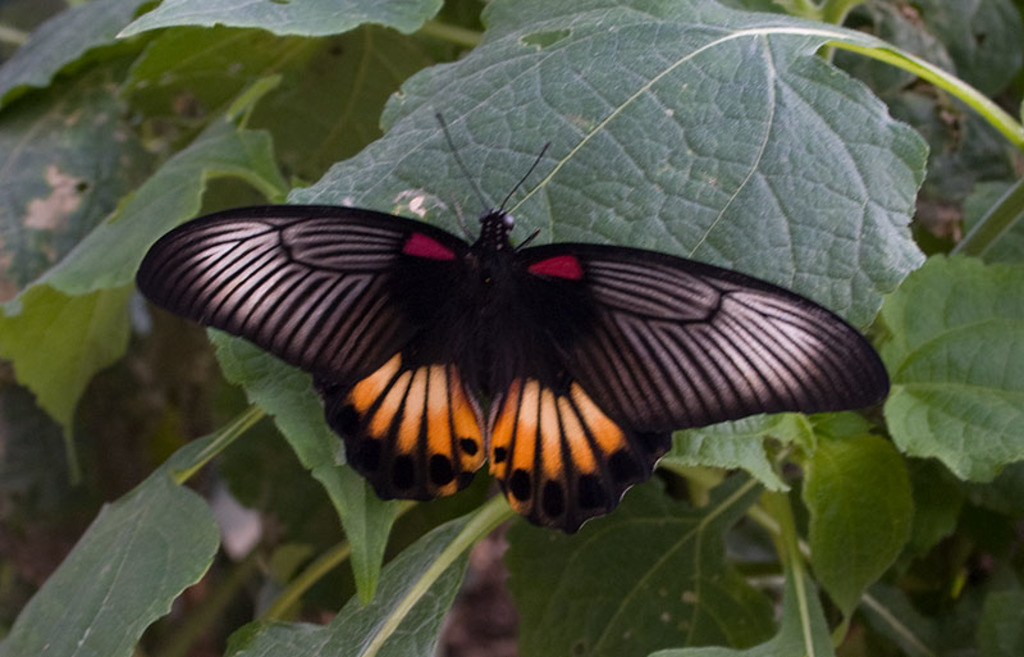Butterfly: (134, 167, 891, 510)
